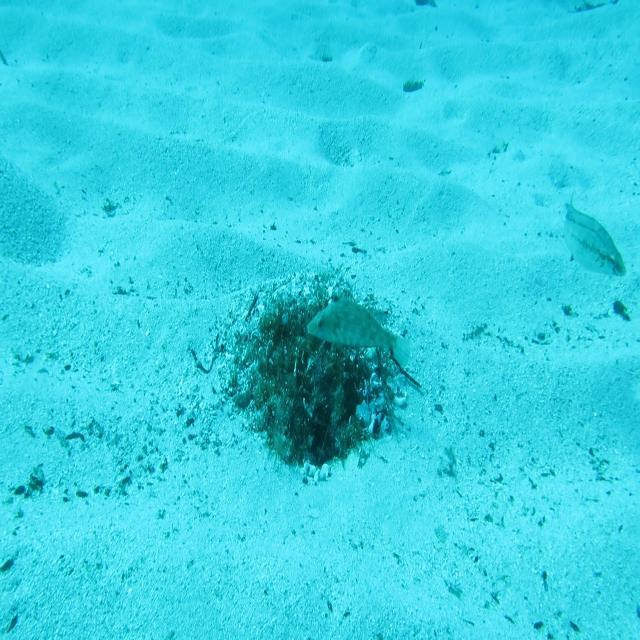BN: (306, 285, 412, 373)
core_nest: (282, 312, 320, 349)
female: (560, 185, 629, 284)
nest: (203, 258, 416, 498)
vegetation: (400, 76, 424, 93)
